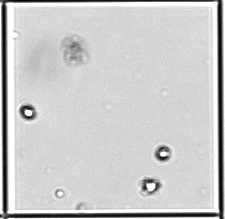Living Cell: (141, 176, 160, 195), (20, 103, 36, 121), (156, 144, 172, 162)
